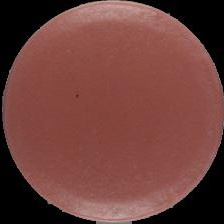10544-934: (0, 0, 224, 224)
